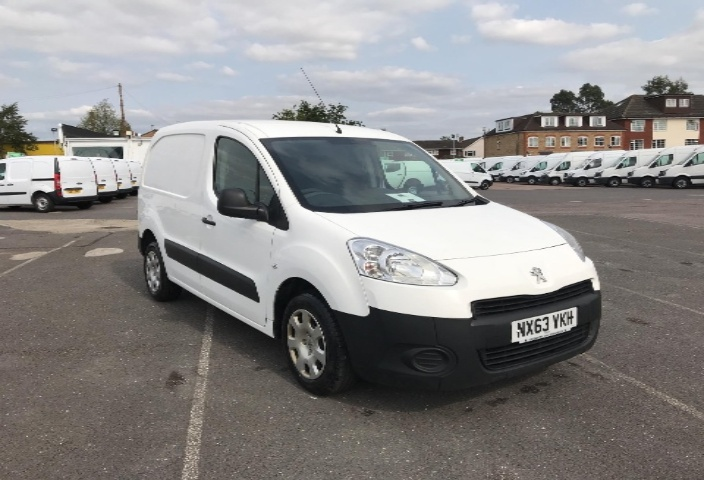van: (109, 117, 607, 400), (1, 145, 104, 210), (623, 138, 704, 194), (601, 143, 659, 185), (434, 154, 495, 193), (656, 142, 704, 191), (572, 148, 624, 186), (83, 153, 123, 199), (105, 147, 136, 195), (516, 153, 559, 184), (545, 151, 584, 181), (500, 160, 530, 186)
